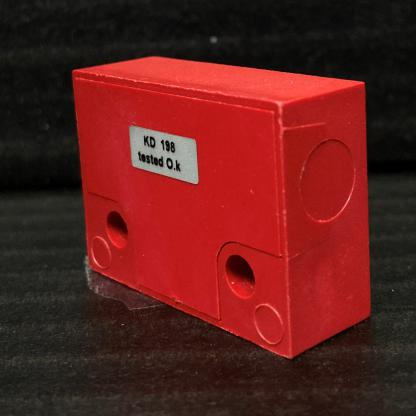SP0000001: (58, 37, 394, 370)
